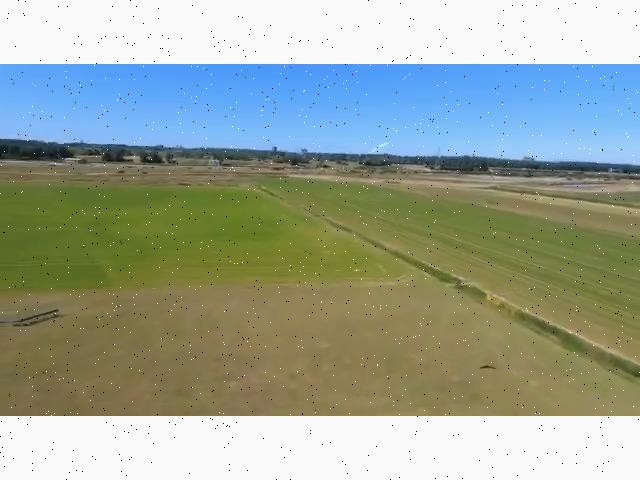Anti-Drone: (364, 129, 396, 165)
